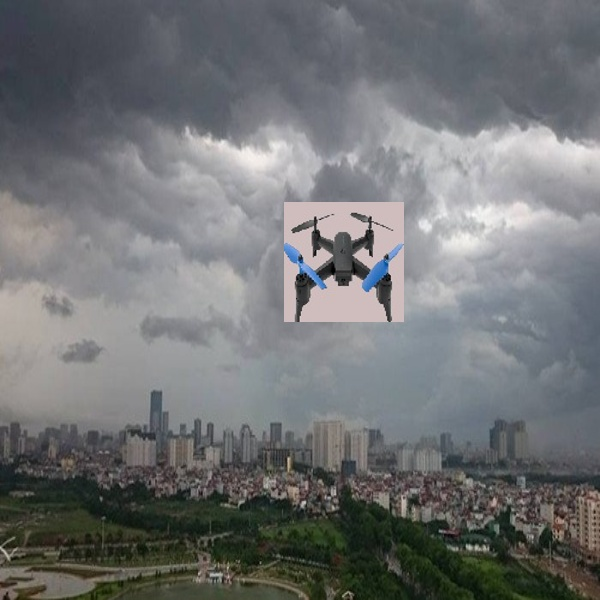drone: (285, 204, 397, 323)
